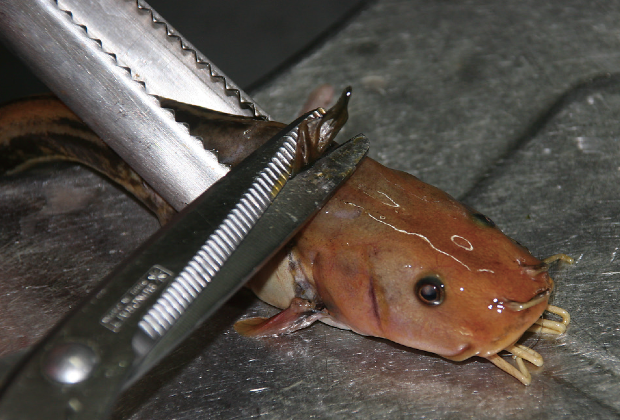gonzui: (308, 156, 579, 382)
